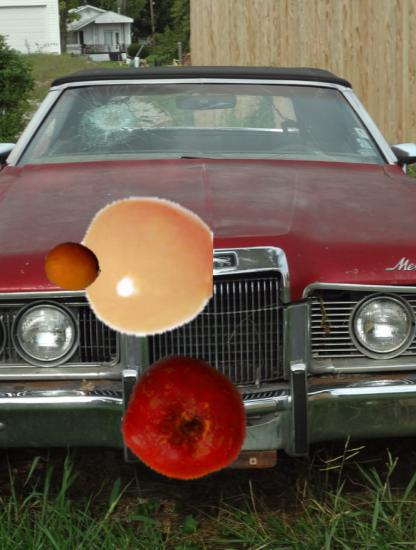Apricot: (44, 238, 102, 296)
Nectarine: (122, 354, 251, 483)
Physalis: (63, 192, 213, 342)
